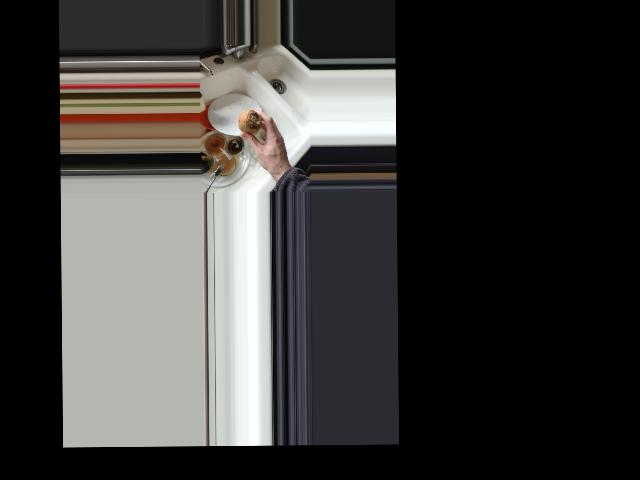sweet_potato: (237, 108, 262, 140)
